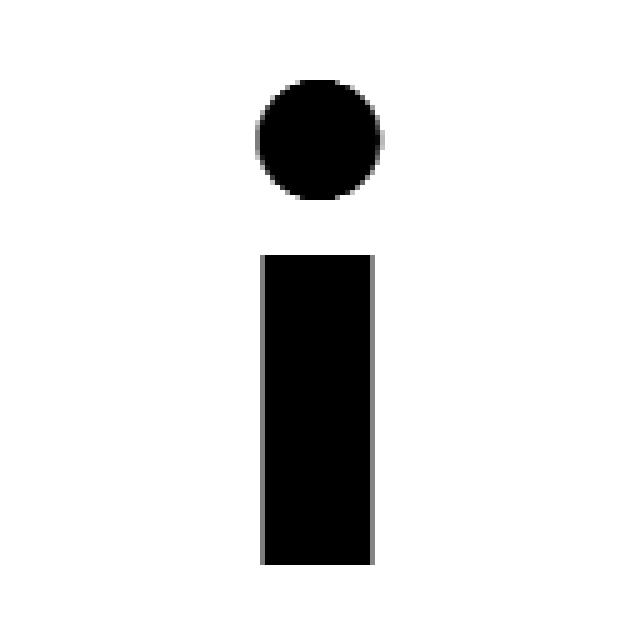I: (237, 69, 386, 576)
